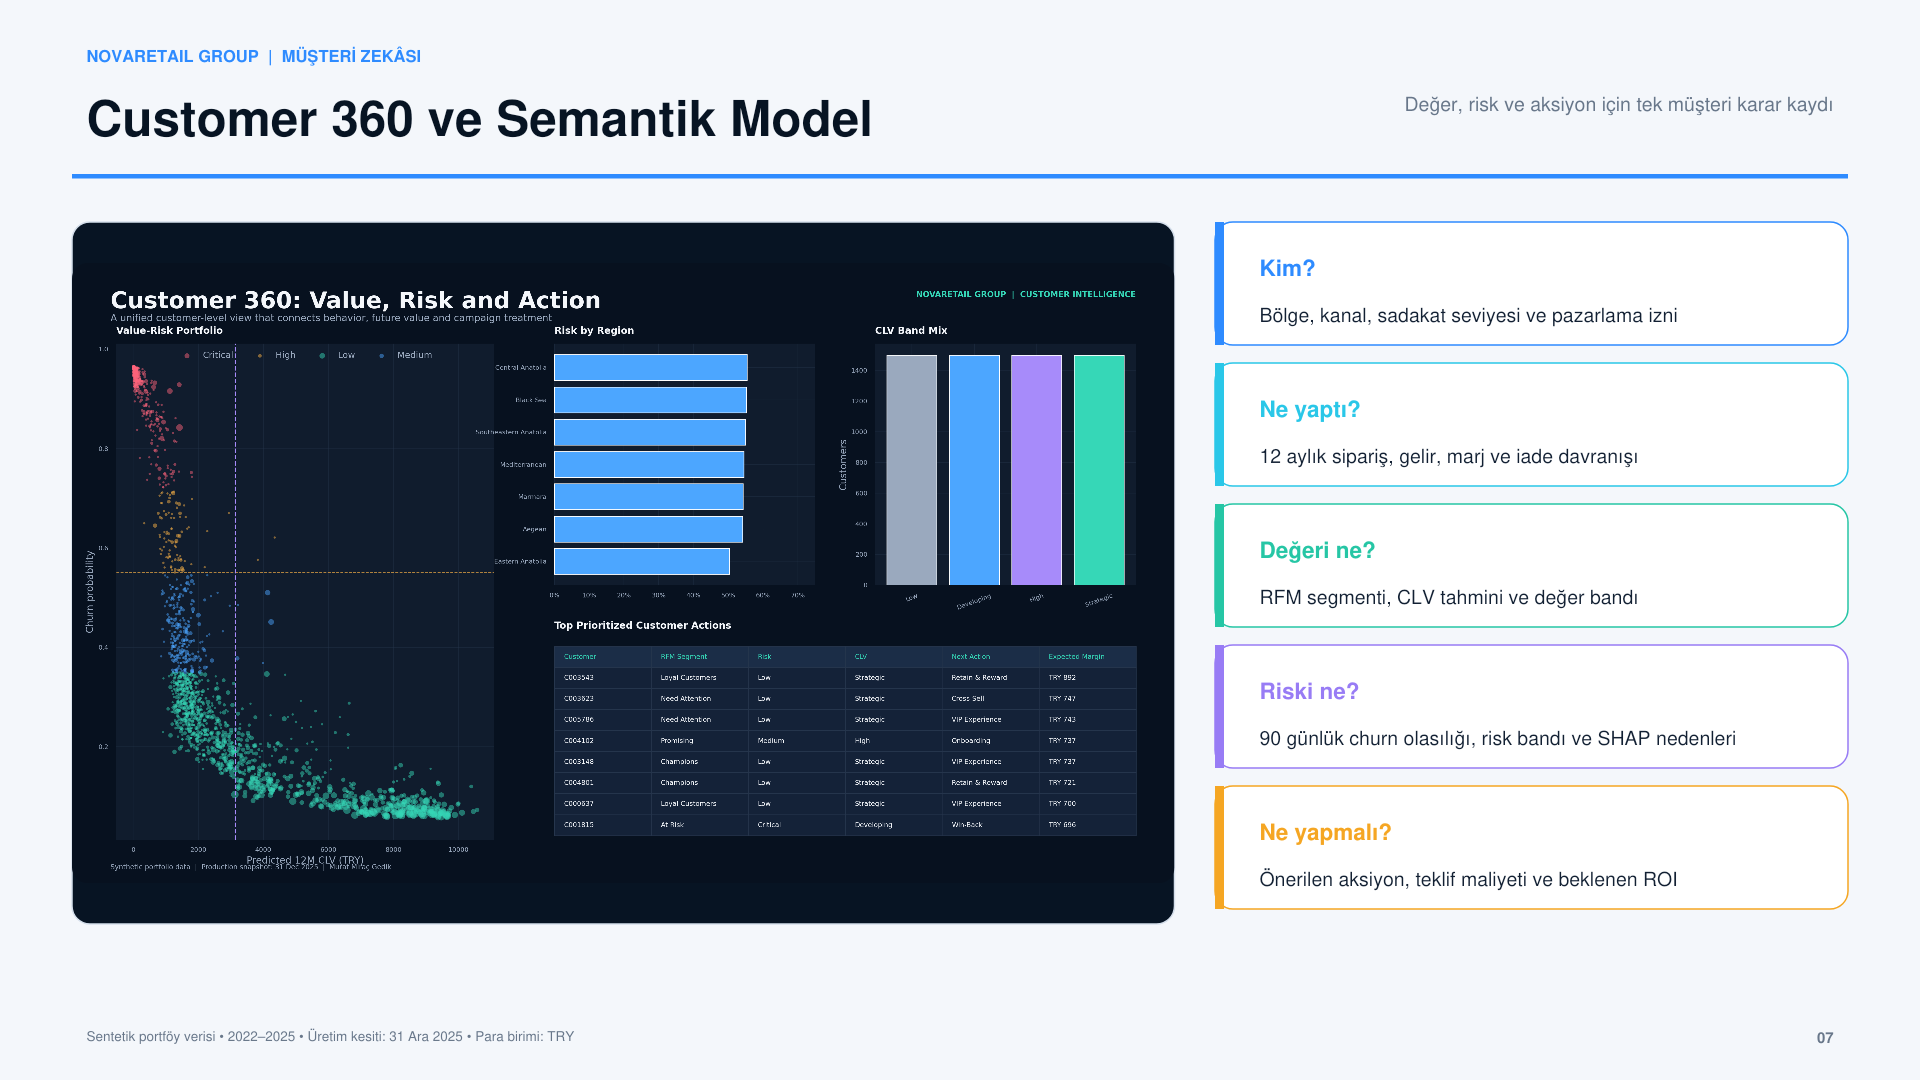

The page's visual inventory and layout, read from the dashboard file:
{"tool":"tableau","page":{"name":"Customer Intelligence - Campaign Activation","canvas":[1000,1000],"units":"permille","ordinal":2},"visuals":[{"type":"worksheet","title":"Campaign Recommendations","box":[0,0,333.3,1000]},{"type":"worksheet","title":"Customer Value Risk Matrix","box":[333.3,0,333.3,1000]},{"type":"worksheet","title":"Customer Detail","box":[666.7,0,333.3,1000]}]}

Visuals, with their boxes on the dashboard's canvas, which has no fixed pixel size, in thousandths of its width and height (x1, y1, x2, y2). These are canvas units, not pixel positions in the 1920x1080 screenshot, which may show the page scaled, cropped or inside an application window:
"Campaign Recommendations" worksheet: 0:0:333:1000
"Customer Value Risk Matrix" worksheet: 333:0:667:1000
"Customer Detail" worksheet: 667:0:1000:1000
